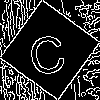C: (25, 25, 68, 76)
